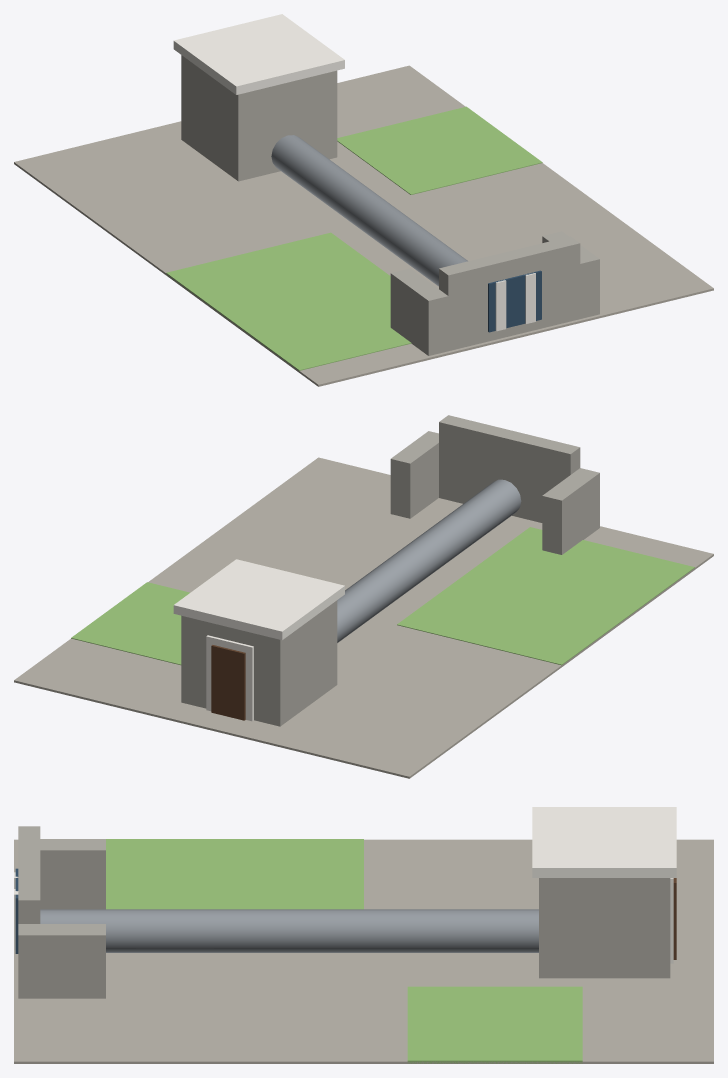
File: outflow.glb
3 views of the same model, one above another, from view 1: azimuth 30°, elevation 25°; view 2: azimuth 150°, elevation 25°; view 3: azimuth 270°, elevation 25° (orthographic). The views are drawn at different scales.
Visible parts, largest first — view 1: gravel, grass_patch (×2), valve_hut, headwall, hut_roof, outflow_pipe, headwall_wing (×2), grille, grille_bar; view 2: gravel, grass_patch (×2), valve_hut, headwall, outflow_pipe, hut_roof, headwall_wing (×2), door, door_frame; view 3: gravel, grass_patch (×2), outflow_pipe, valve_hut, headwall_wing (×2), hut_roof, headwall.
Boxes of the visible parts, <box> form: gravel: <box>14,65,713,386</box>; grass_patch (×2): <box>166,106,542,370</box>; valve_hut: <box>181,55,337,181</box>; headwall: <box>439,236,580,351</box>; hut_roof: <box>173,14,344,94</box>; outflow_pipe: <box>271,135,467,286</box>; headwall_wing (×2): <box>390,231,599,355</box>; grille: <box>488,270,541,332</box>; grille_bar: <box>495,279,506,331</box>; gravel: <box>14,457,713,778</box>; grass_patch (×2): <box>71,527,694,665</box>; valve_hut: <box>181,600,337,726</box>; headwall: <box>439,415,580,522</box>; outflow_pipe: <box>337,479,521,642</box>; hut_roof: <box>173,559,344,640</box>; headwall_wing (×2): <box>390,431,599,554</box>; door: <box>211,645,245,720</box>; door_frame: <box>206,635,253,721</box>; gravel: <box>14,839,713,1063</box>; grass_patch (×2): <box>106,839,582,1063</box>; outflow_pipe: <box>40,909,538,952</box>; valve_hut: <box>539,878,670,978</box>; headwall_wing (×2): <box>18,839,105,998</box>; hut_roof: <box>532,807,676,877</box>; headwall: <box>18,826,40,923</box>.
Bounding box in the file's own units: 12 × 2.91 × 16.
